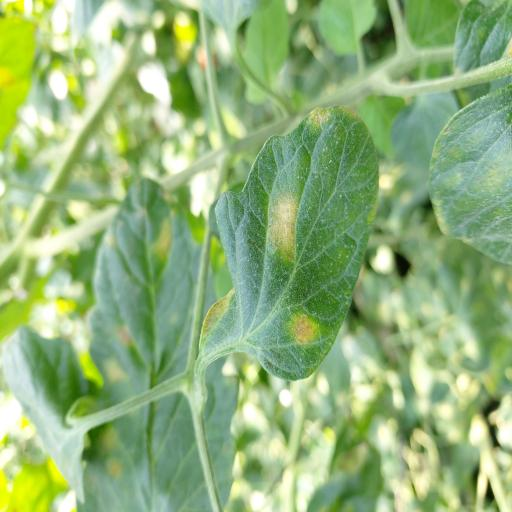disease_tomato: (197, 104, 380, 382)
